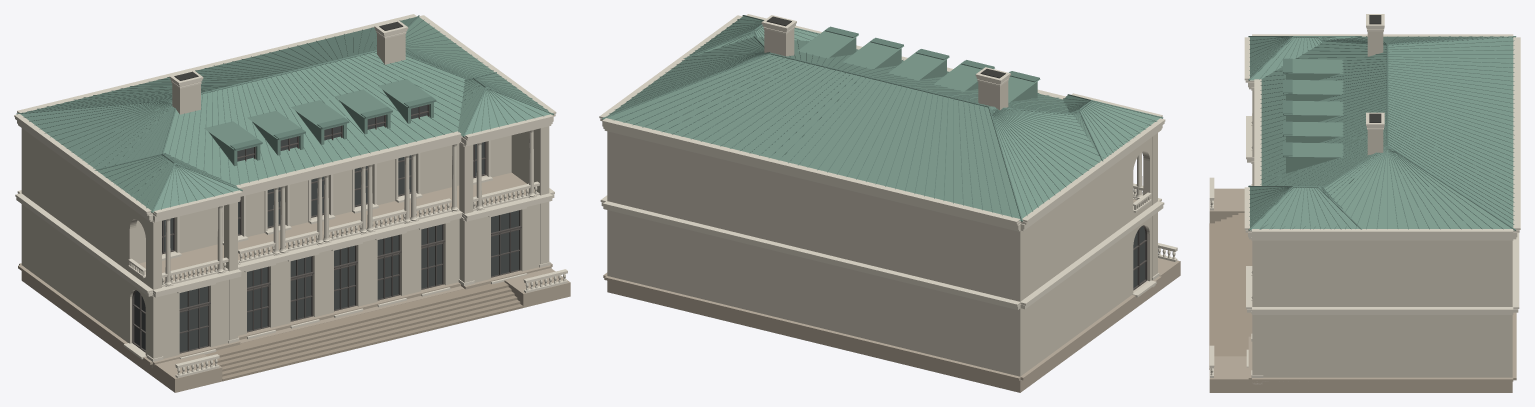
The model's file is changning-xingguo-guesthouse-01-raw.glb.
The picture shows the model from 3 angles, left to right: view 1: azimuth 30°, elevation 25°; view 2: azimuth 150°, elevation 25°; view 3: azimuth 270°, elevation 25°; orthographic projection. The views are drawn at different scales.
Visible parts, largest first — view 1: 兴国宾馆1号楼（太古洋行花园住宅）; view 2: 兴国宾馆1号楼（太古洋行花园住宅）; view 3: 兴国宾馆1号楼（太古洋行花园住宅）.
Part boxes in pixels (x1,y1,x2,y2): 兴国宾馆1号楼（太古洋行花园住宅）: (14, 14, 570, 392); 兴国宾馆1号楼（太古洋行花园住宅）: (599, 14, 1180, 392); 兴国宾馆1号楼（太古洋行花园住宅）: (1209, 14, 1520, 392).
Bounding box in the file's own units: 30.81 × 16.68 × 20.53.
